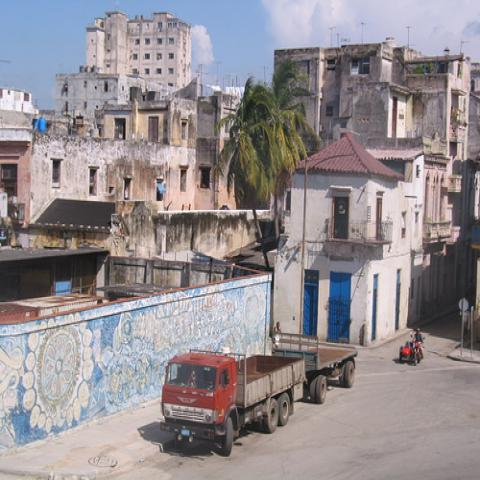motorcycle: (399, 338, 424, 369)
truck: (160, 332, 357, 456)
